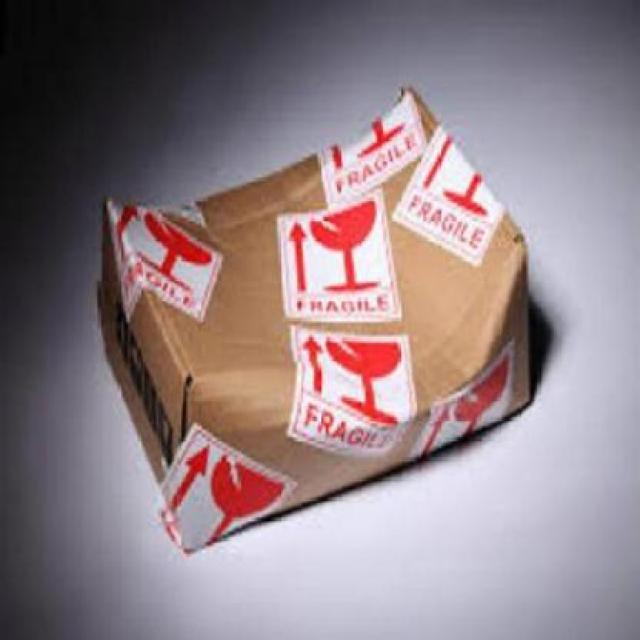box: (86, 84, 548, 562)
